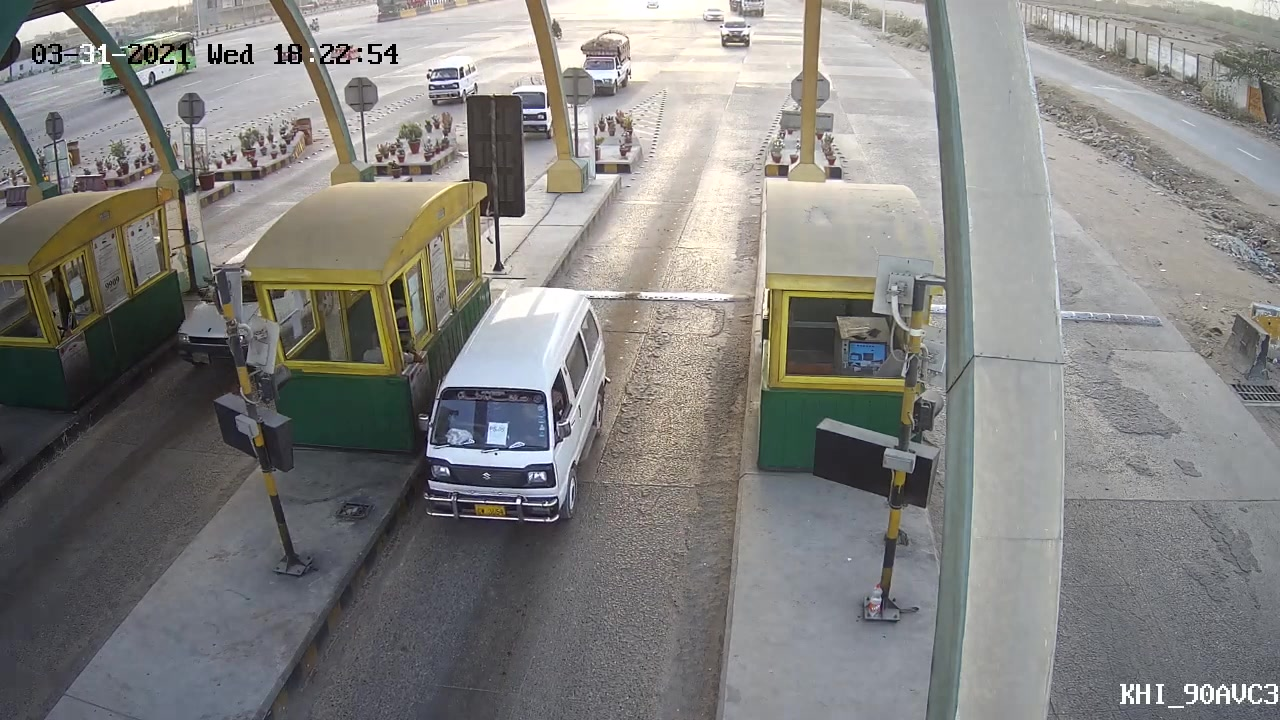F1: (411, 283, 619, 532)
